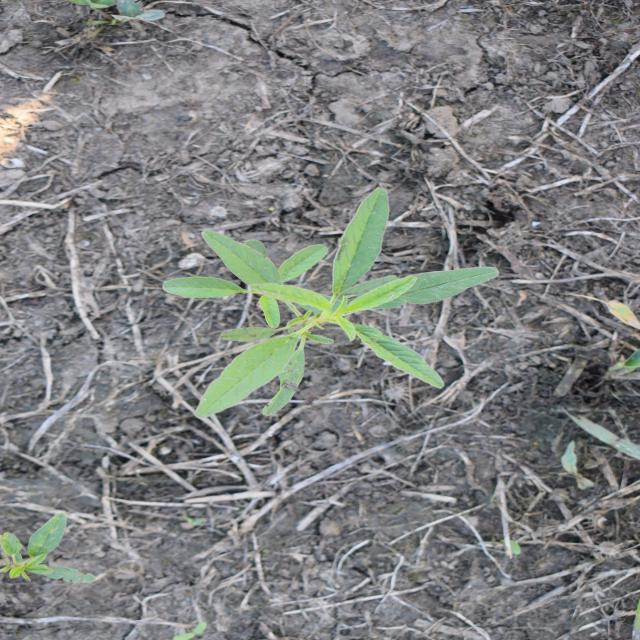Waterhemp: (158, 184, 502, 422), (0, 508, 102, 586)
